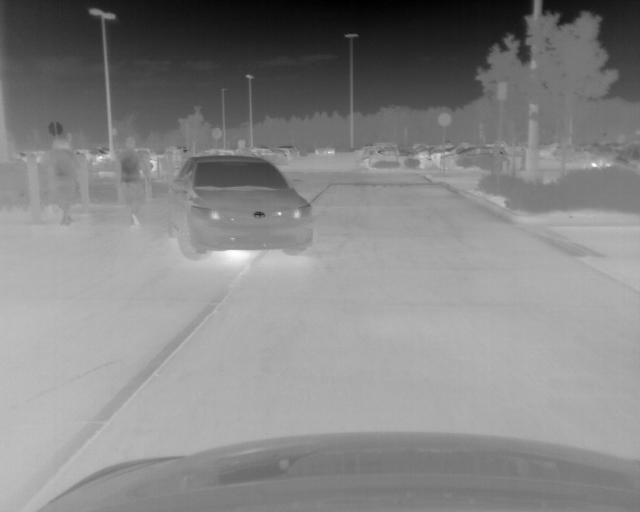car: (169, 157, 312, 261), (370, 147, 431, 168), (442, 147, 497, 169), (314, 145, 335, 155)
people: (46, 138, 83, 226), (117, 138, 151, 226)
